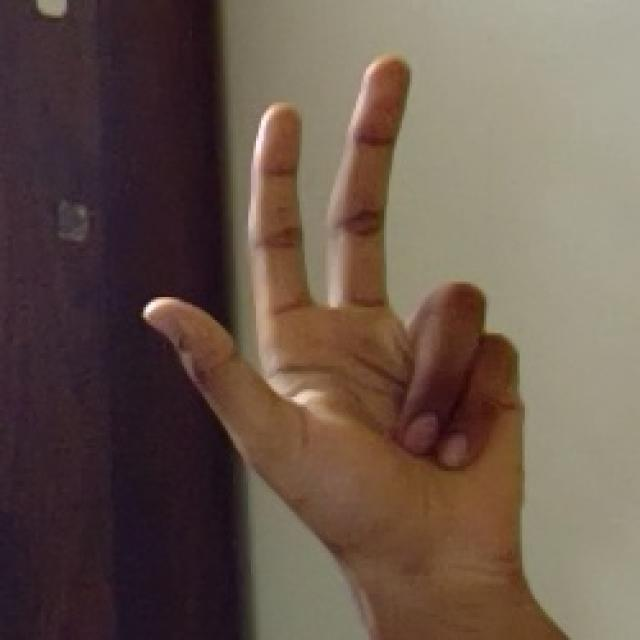Numeric-3: (150, 51, 530, 593)
